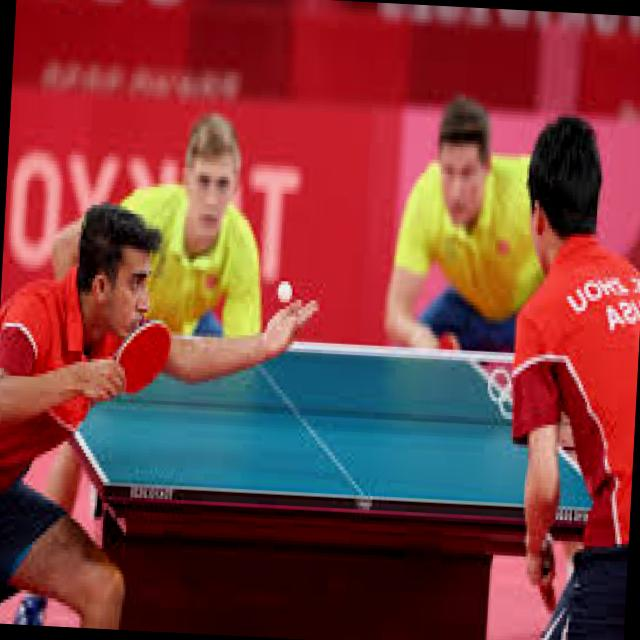TT Net: (103, 323, 571, 437)
TT Racket: (75, 304, 196, 414), (506, 519, 598, 627)
TT Table: (66, 332, 617, 513)
